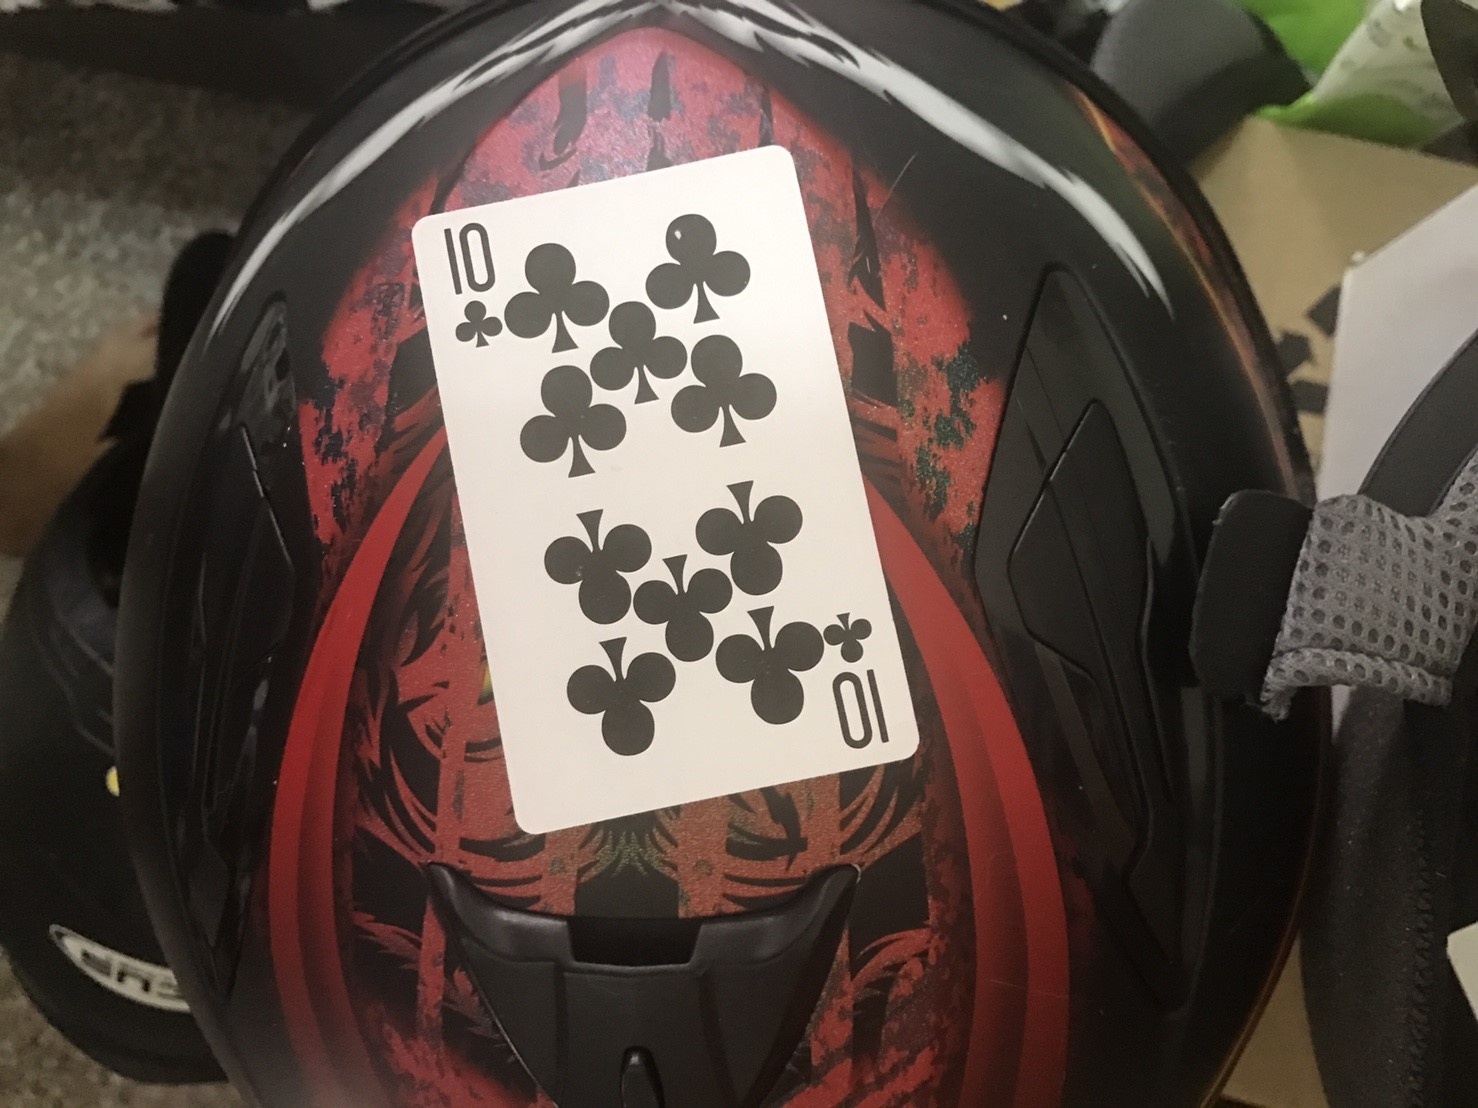clubs: (663, 334, 798, 455), (555, 633, 687, 757), (633, 211, 765, 331), (521, 365, 635, 486), (539, 507, 652, 626), (715, 606, 826, 726), (694, 482, 806, 599), (507, 233, 614, 354), (625, 551, 737, 660), (595, 299, 684, 402), (822, 610, 881, 666), (452, 301, 506, 354)
